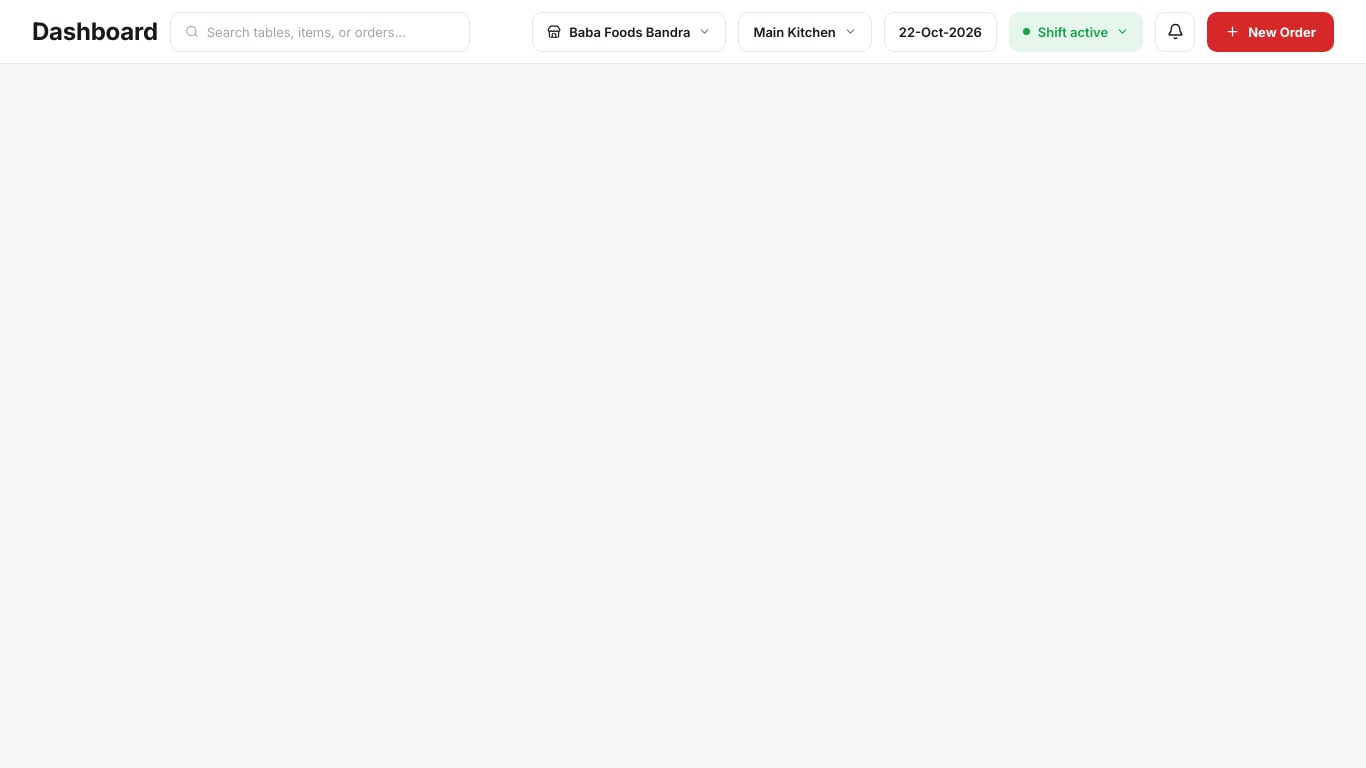
Test case: Adding a restaurant › opens from the switcher
Click the button "Baba Foods Bandra": (629, 32) [532,12,726,52]
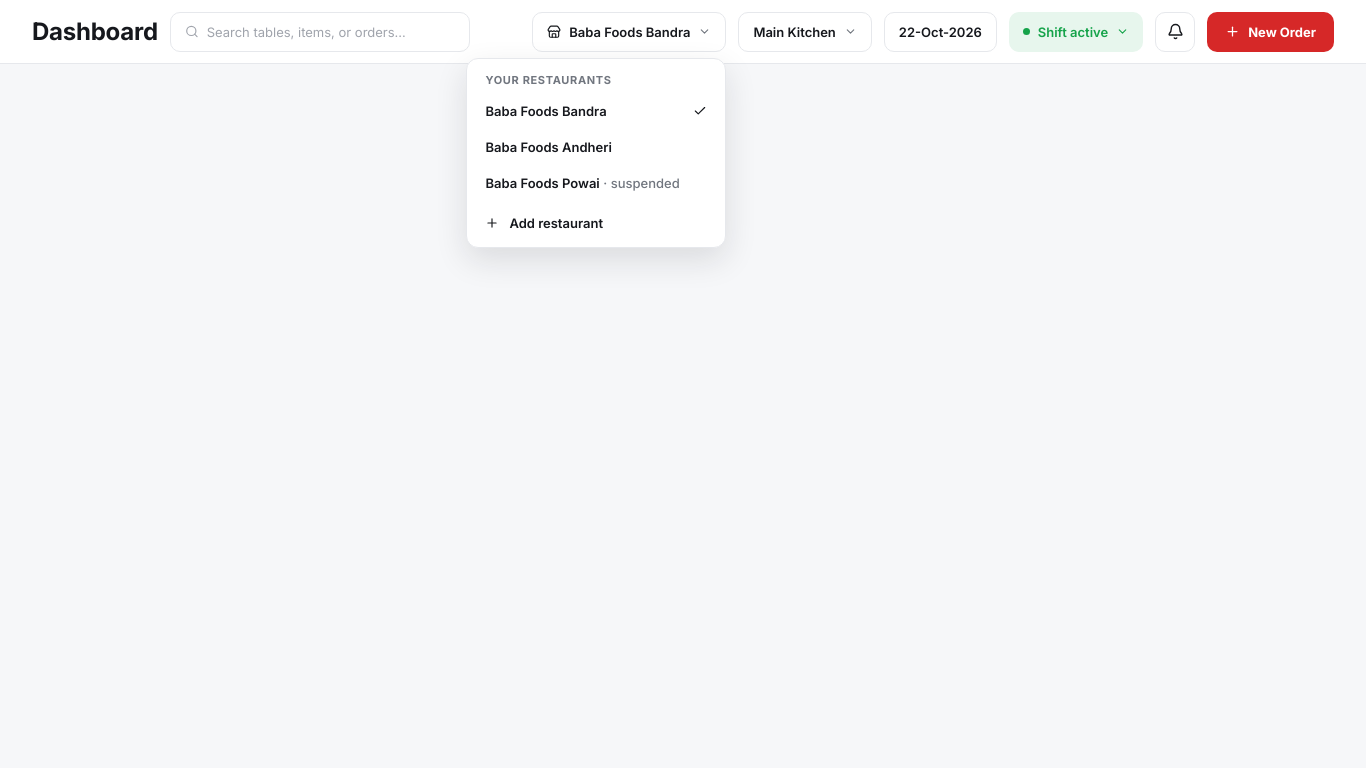
Click the button "Add restaurant": (596, 222) [473,204,719,240]
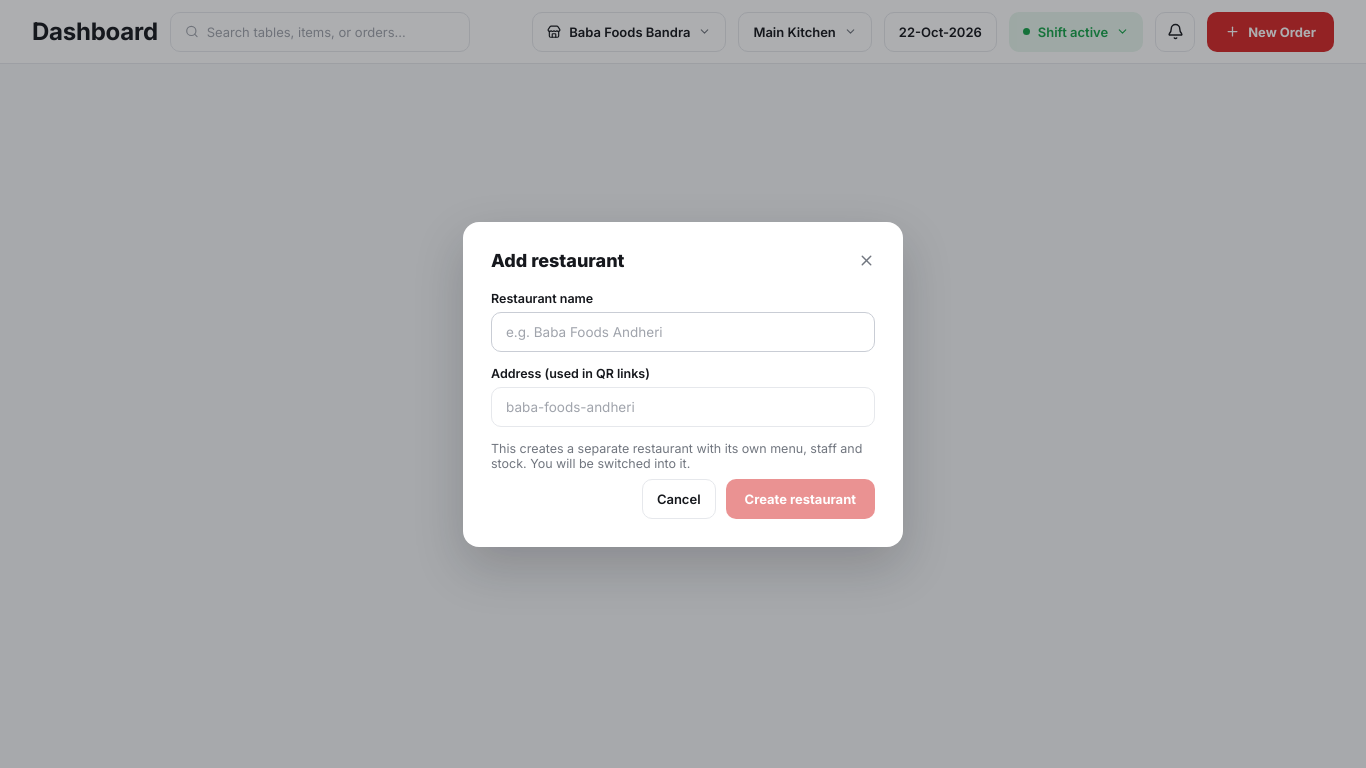
expect the text "Restaurant name" is shown: met, box [491,290,593,306]
